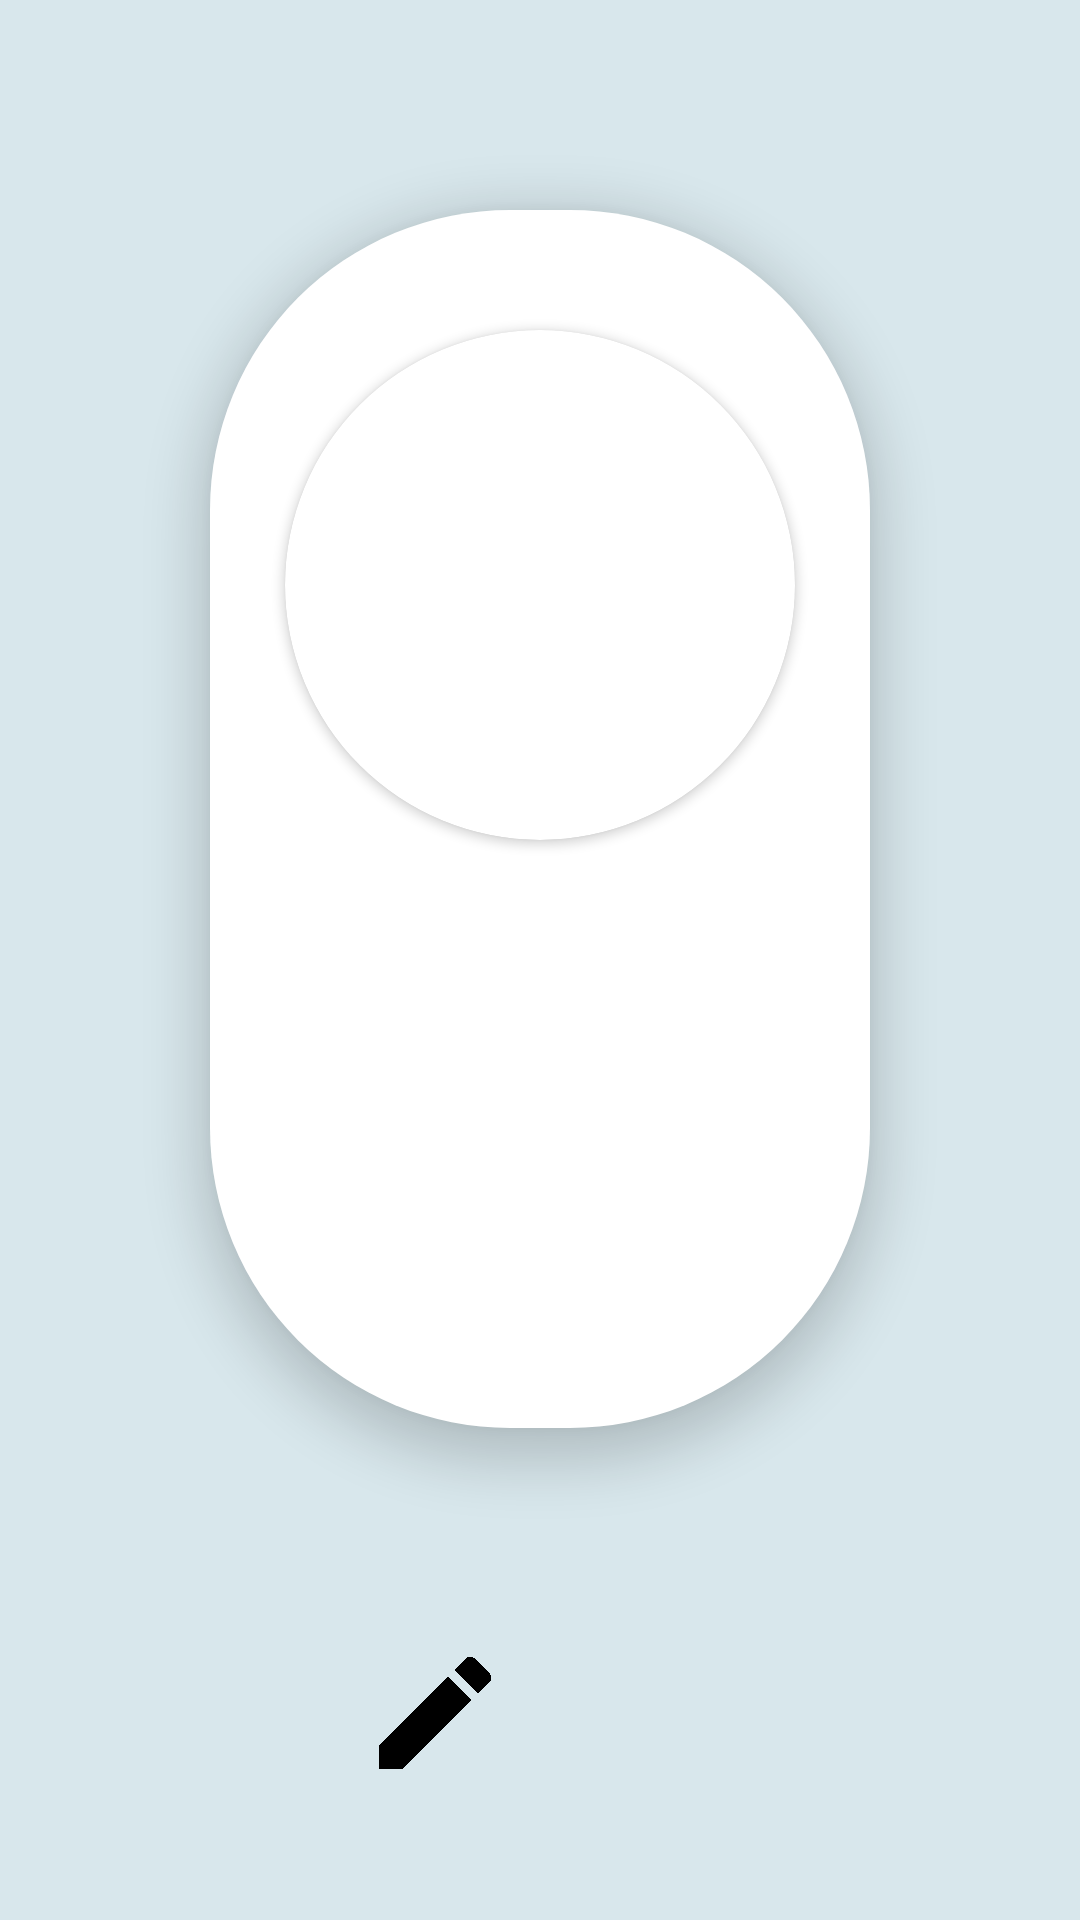

Named icons in this screenshot (1080 × 1920) and their centers, point (x, y):
edit: point (435, 1713)
